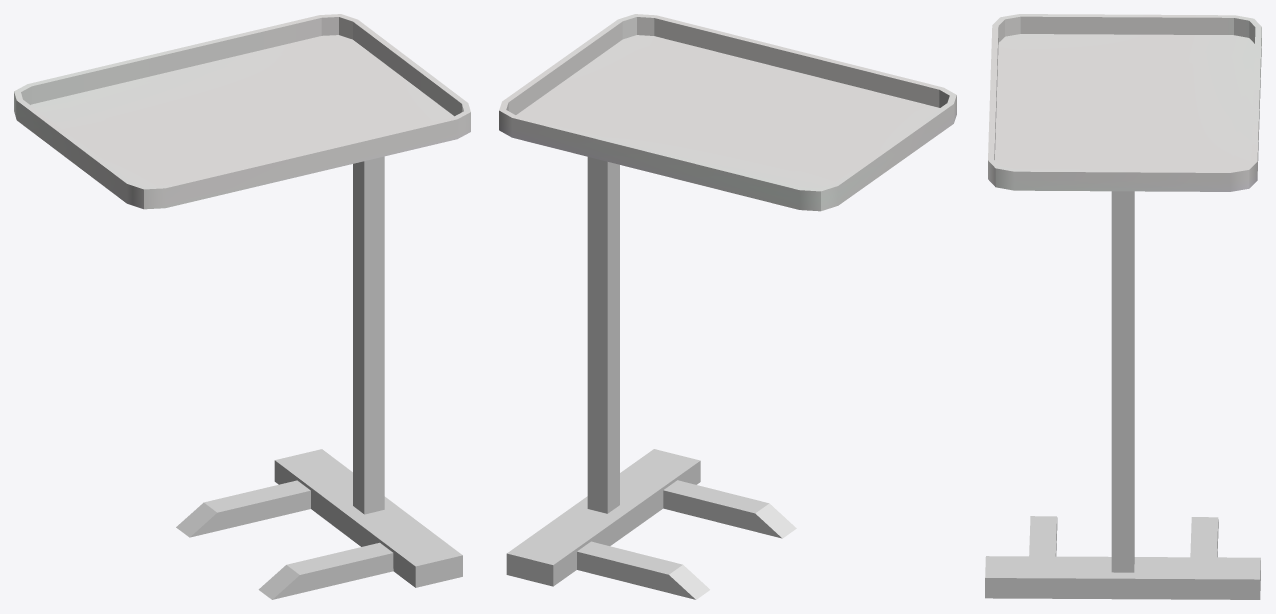
Rendered from mayo.glb.
3 renders of one model, left to right at view 1: azimuth 30°, elevation 25°; view 2: azimuth 150°, elevation 25°; view 3: azimuth 270°, elevation 25°, orthographic. The views are drawn at different scales.
Visible parts, largest first — view 1: mayo; view 2: mayo; view 3: mayo.
Boxes of the visible parts, x1,y1,x2,y2 form: mayo: [14, 14, 470, 599]; mayo: [499, 14, 956, 599]; mayo: [985, 14, 1261, 599].
Size of the model in its own units: 0.6505 by 0.8324 by 0.4783.
Materials: 1 (1 with a texture image).
